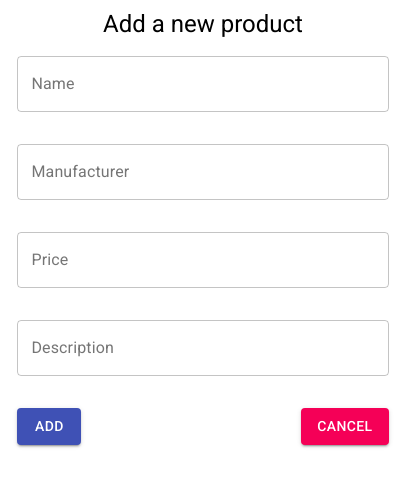
it: <AddProduct /> › form input › shows error when name field is touched and skipped
Focus the field labelled "Please enter the product name" at (203, 84), box [17, 56, 389, 112]
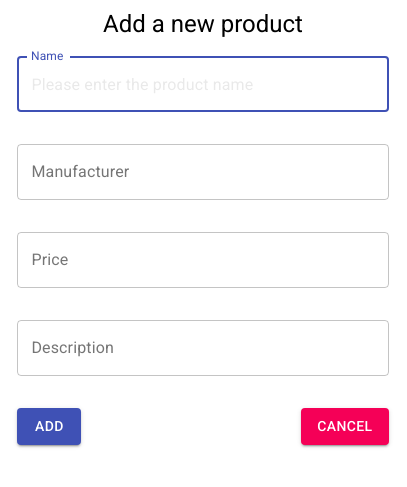
Leave the field labelled "Please enter the product name", box [17, 56, 389, 112]
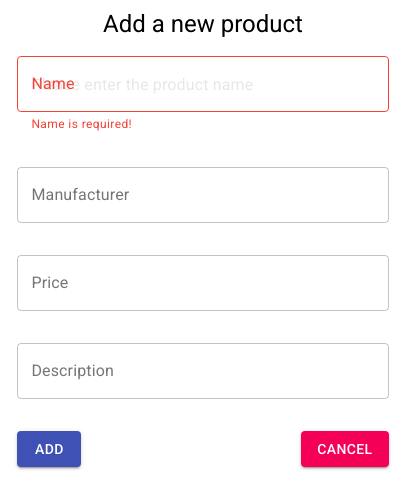
Now the text "Name is required!" is shown, box [31, 117, 132, 131]
